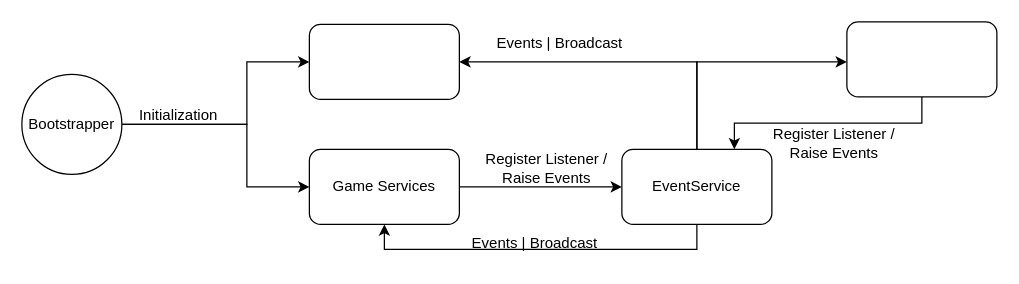
Image size: 1019x284. Some labels were removed from this diagram. The shapes that lost their labels are listed below. From the top down, each one's box as (x1, y1, x2, y2) in pixels, then its label:
(308, 23, 459, 99): Services
(846, 21, 997, 97): View
